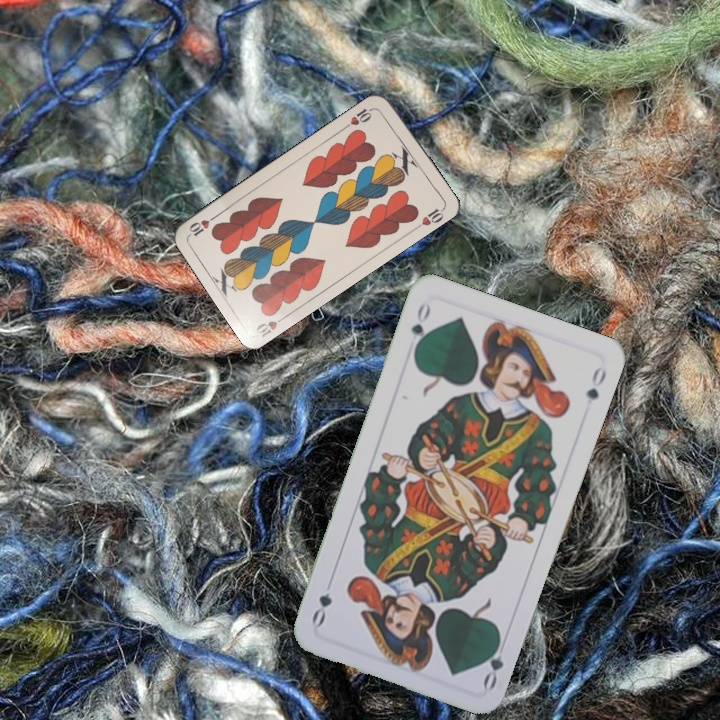GO: (479, 632, 506, 692), (407, 299, 434, 356)
H10: (251, 311, 290, 340), (341, 103, 378, 131)
